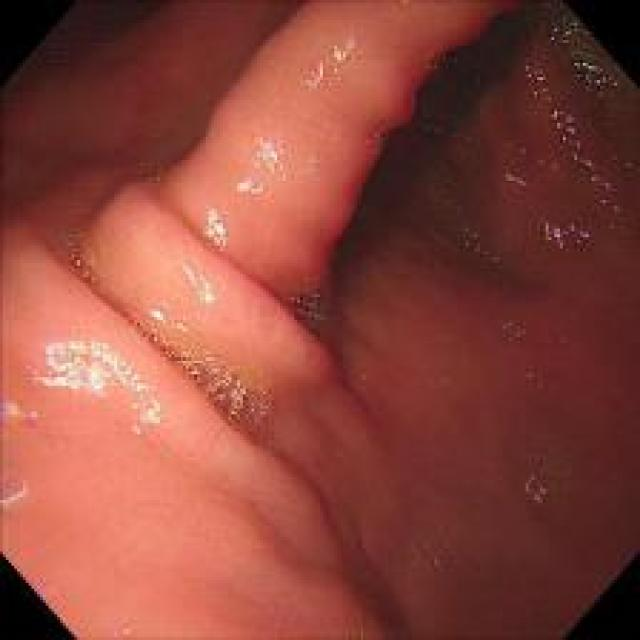bubbles: (128, 310, 269, 420), (415, 541, 439, 575), (499, 315, 525, 339), (150, 165, 164, 178)
color misalignment: (522, 54, 625, 224), (42, 335, 169, 430), (549, 11, 610, 92), (235, 140, 304, 196), (451, 214, 504, 274), (545, 206, 595, 268), (299, 42, 355, 95), (175, 261, 229, 306), (60, 240, 108, 286), (290, 288, 332, 338), (5, 395, 45, 439), (199, 204, 235, 248), (520, 466, 559, 505), (5, 468, 28, 512), (505, 169, 529, 189)
contrast: (338, 24, 532, 265), (5, 6, 180, 124)
